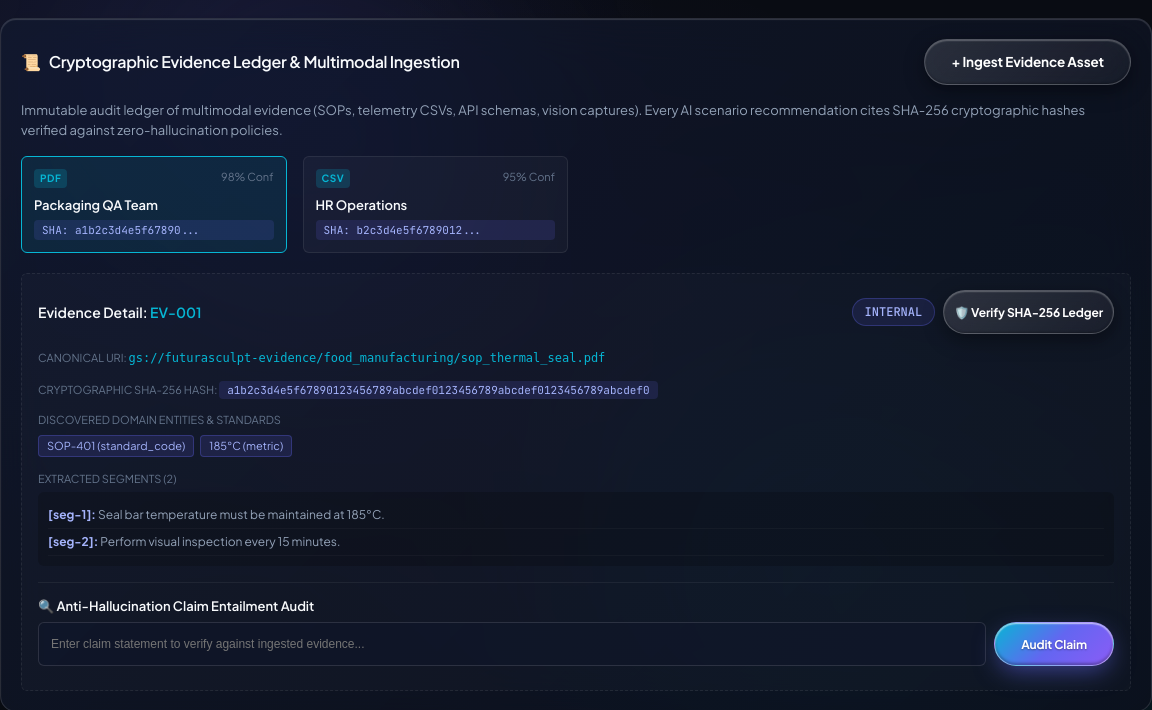
Test case: EvidenceDrawer Component › uses default api methods when callbacks are not provided
// Trigger integrity check
Step 1. Click the button "🛡️ Verify SHA-256 Ledger" → {"x": 1029, "y": 312}, box x1=943 y1=290 x2=1114 y2=334
(page scrolled)
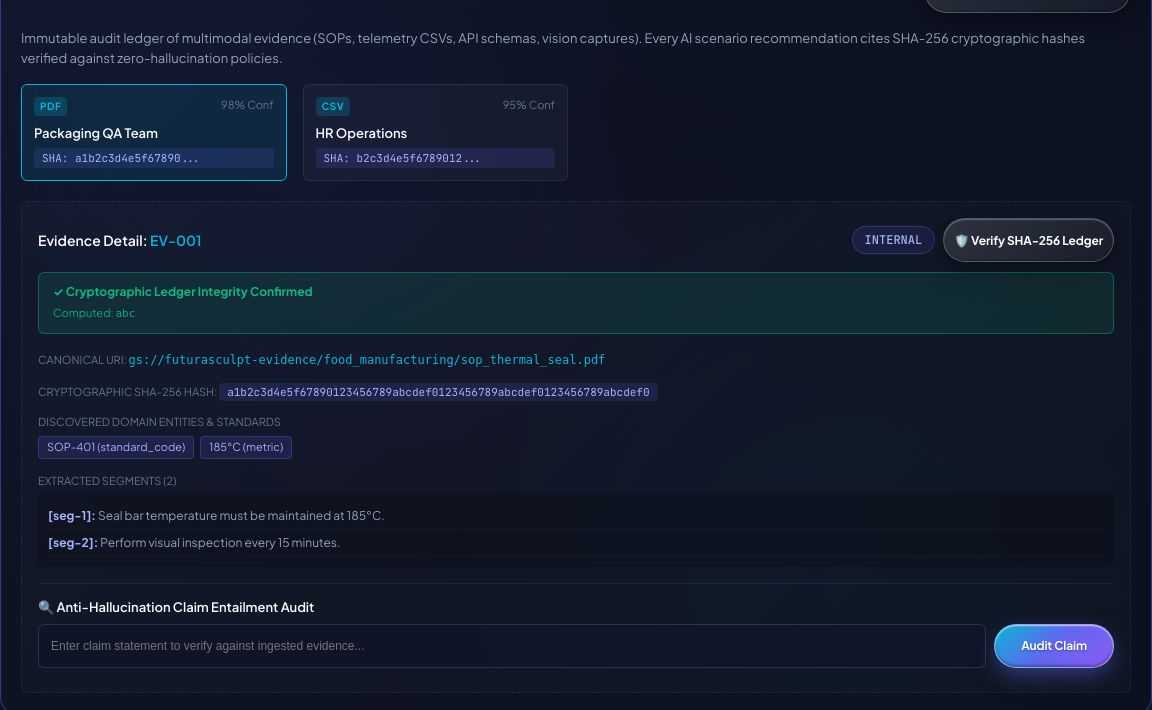
// Trigger claim verification
Step 2. Type "Test claim" into the field with placeholder "Enter claim statement to verify" → {"x": 512, "y": 646}, box x1=38 y1=624 x2=986 y2=668
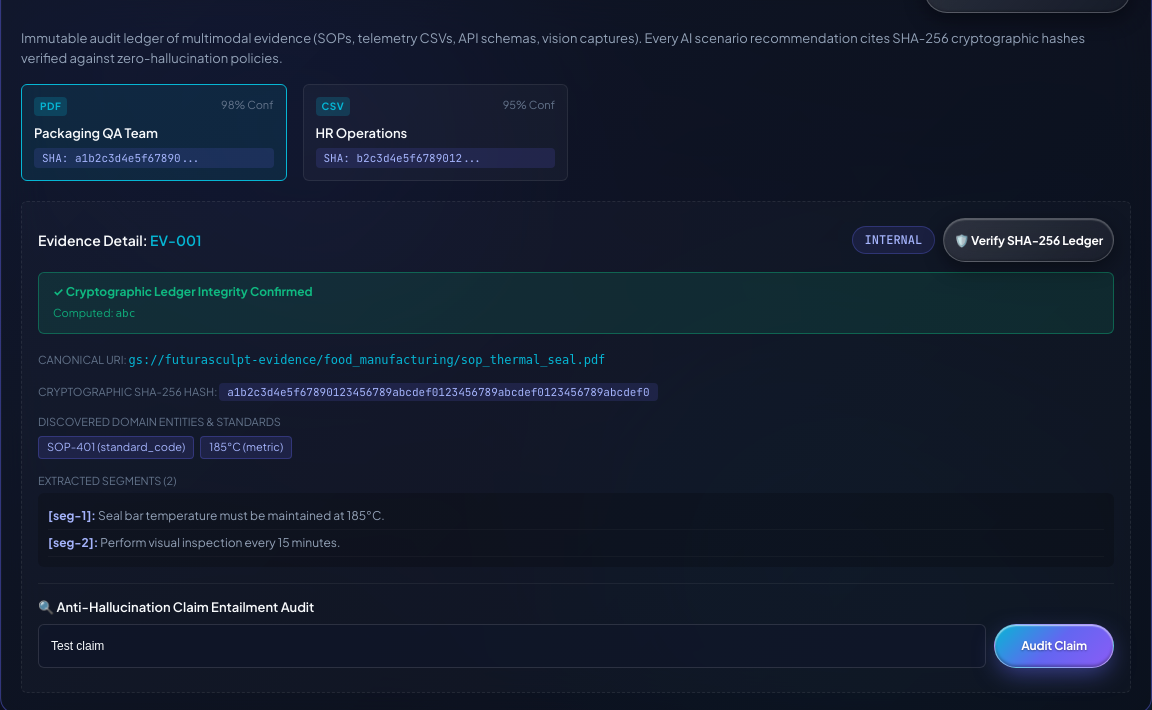
Step 3. Click the button "Audit Claim" → {"x": 1054, "y": 646}, box x1=994 y1=624 x2=1114 y2=668
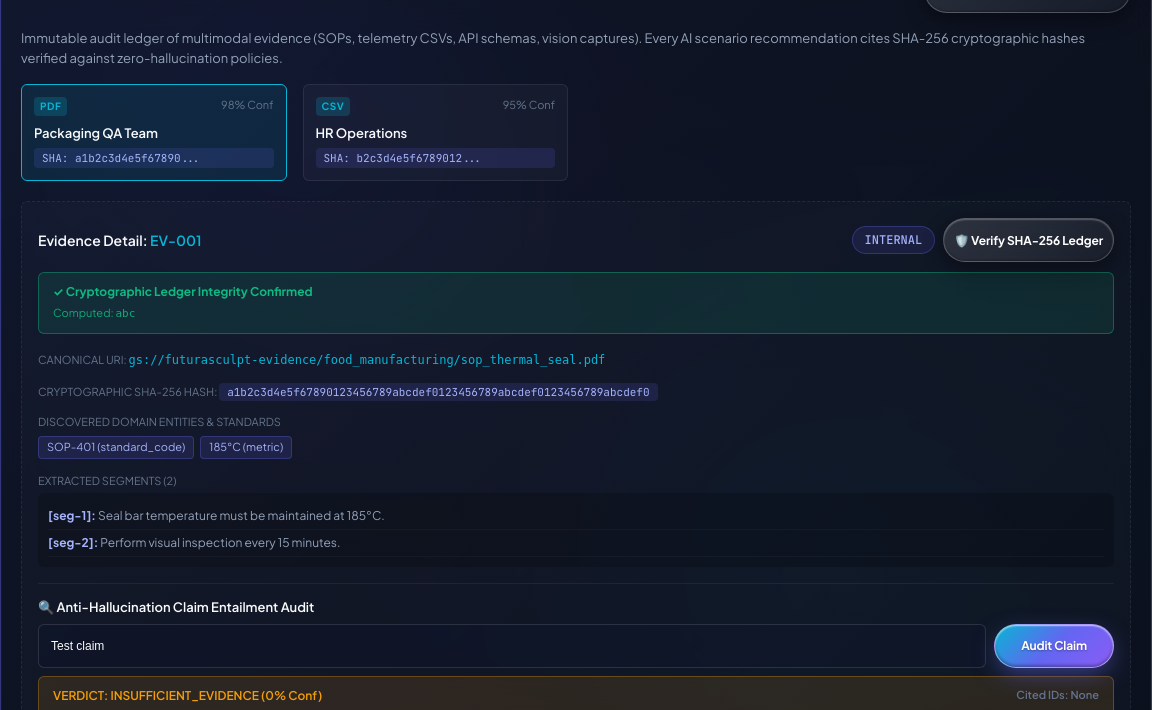
Expected: the text "VERDICT: INSUFFICIENT_EVIDENCE (0% Conf)" is shown, x1=53 y1=687 x2=322 y2=705
